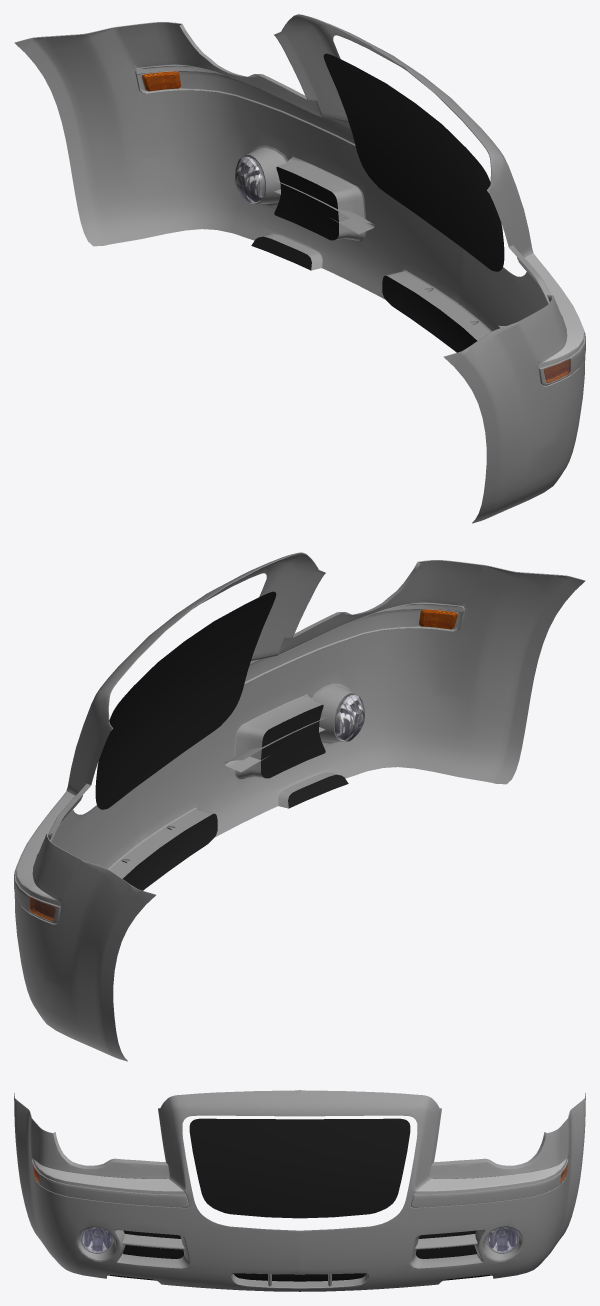
3 renders of one model, top to bottom at view 1: azimuth 30°, elevation 25°; view 2: azimuth 150°, elevation 25°; view 3: azimuth 270°, elevation 25°, orthographic. The views are drawn at different scales.
Visible parts, largest first — view 1: M261_021G_C_M261_021G_C_2_DaS, M261_021G_C_1_N_M261_021G_C, M261_021G_C_M261_021G_C_2_DaS_E, M261_021G_C_M261_021G_C_9_DaS, M261_021G_C_M261_021G_C_4_N, M261_021G_C_M261_021G_C_6_N; view 2: M261_021G_C_M261_021G_C_2_DaS, M261_021G_C_1_N_M261_021G_C, M261_021G_C_M261_021G_C_2_DaS_E, M261_021G_C_M261_021G_C_9_DaS, M261_021G_C_M261_021G_C_5_N, M261_021G_C_M261_021G_C_7_N; view 3: M261_021G_C_M261_021G_C_2_DaS, M261_021G_C_1_N_M261_021G_C, M261_021G_C_M261_021G_C_9_DaS, M261_021G_C_M261_021G_C_2_DaS_E, M261_021G_C_M261_021G_C_4_N, M261_021G_C_M261_021G_C_5_N, M261_021G_C_M261_021G_C_4_DTaSI, M261_021G_C_M261_021G_C_5_DTaSI.
Boxes of the visible parts, <box> form: M261_021G_C_M261_021G_C_2_DaS: <box>15,15,585,523</box>; M261_021G_C_1_N_M261_021G_C: <box>251,53,504,352</box>; M261_021G_C_M261_021G_C_2_DaS_E: <box>14,14,585,386</box>; M261_021G_C_M261_021G_C_9_DaS: <box>136,65,584,368</box>; M261_021G_C_M261_021G_C_4_N: <box>235,156,265,203</box>; M261_021G_C_M261_021G_C_6_N: <box>142,71,180,91</box>; M261_021G_C_M261_021G_C_2_DaS: <box>14,553,584,1061</box>; M261_021G_C_1_N_M261_021G_C: <box>95,591,348,890</box>; M261_021G_C_M261_021G_C_2_DaS_E: <box>14,552,585,924</box>; M261_021G_C_M261_021G_C_9_DaS: <box>15,603,463,906</box>; M261_021G_C_M261_021G_C_5_N: <box>334,694,364,741</box>; M261_021G_C_M261_021G_C_7_N: <box>419,609,457,629</box>; M261_021G_C_M261_021G_C_2_DaS: <box>14,1090,585,1291</box>; M261_021G_C_1_N_M261_021G_C: <box>108,1118,491,1281</box>; M261_021G_C_M261_021G_C_9_DaS: <box>32,1158,567,1194</box>; M261_021G_C_M261_021G_C_2_DaS_E: <box>14,1092,585,1288</box>; M261_021G_C_M261_021G_C_4_N: <box>486,1227,518,1253</box>; M261_021G_C_M261_021G_C_5_N: <box>81,1227,113,1253</box>; M261_021G_C_M261_021G_C_4_DTaSI: <box>487,1227,518,1252</box>; M261_021G_C_M261_021G_C_5_DTaSI: <box>81,1227,112,1252</box>.
Bounding box in the file's own units: 61.66 × 72.56 × 196.
